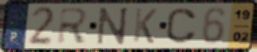2: (27, 5, 56, 47)
6: (199, 5, 228, 47)
C: (164, 7, 198, 45)
K: (131, 7, 159, 45)
N: (95, 6, 130, 46)
R: (56, 6, 91, 46)
